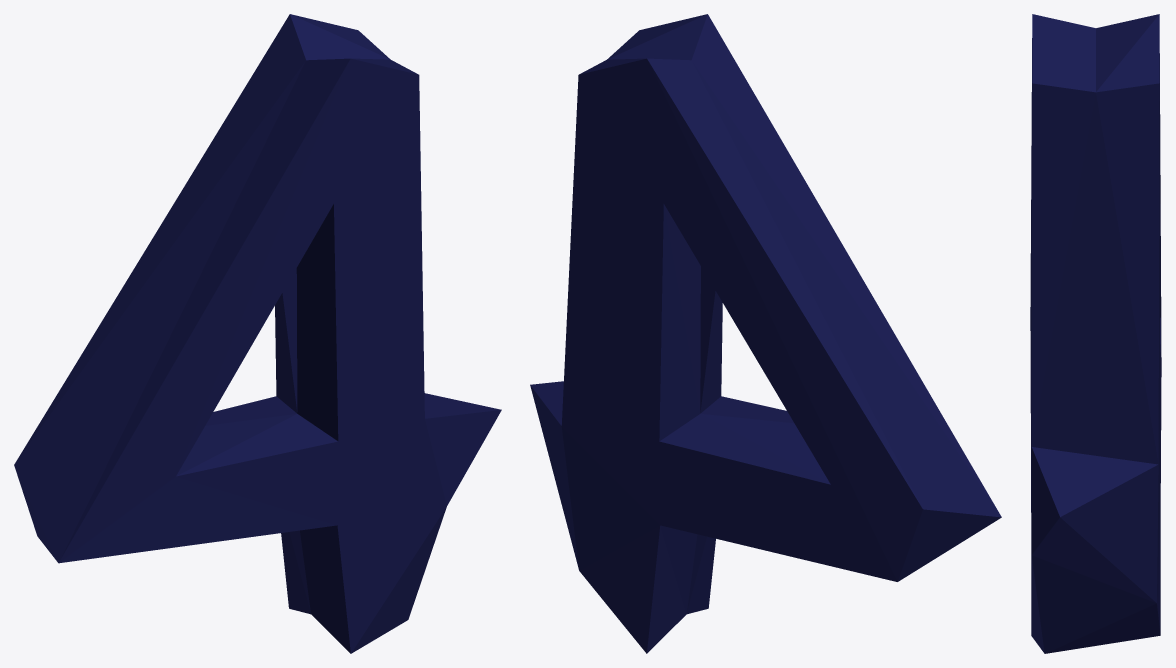
3 views of the same model, side by side, from view 1: azimuth 30°, elevation 25°; view 2: azimuth 150°, elevation 25°; view 3: azimuth 270°, elevation 25° (orthographic). The views are drawn at different scales.
Parts seen in each view (by area): view 1: Four; view 2: Four; view 3: Four.
Part boxes in pixels (<box>): Four: <box>14,14,501,653</box>; Four: <box>530,14,1001,653</box>; Four: <box>1030,14,1161,653</box>.
Size of the model in its own units: 0.4075 by 0.5062 by 0.0967.
